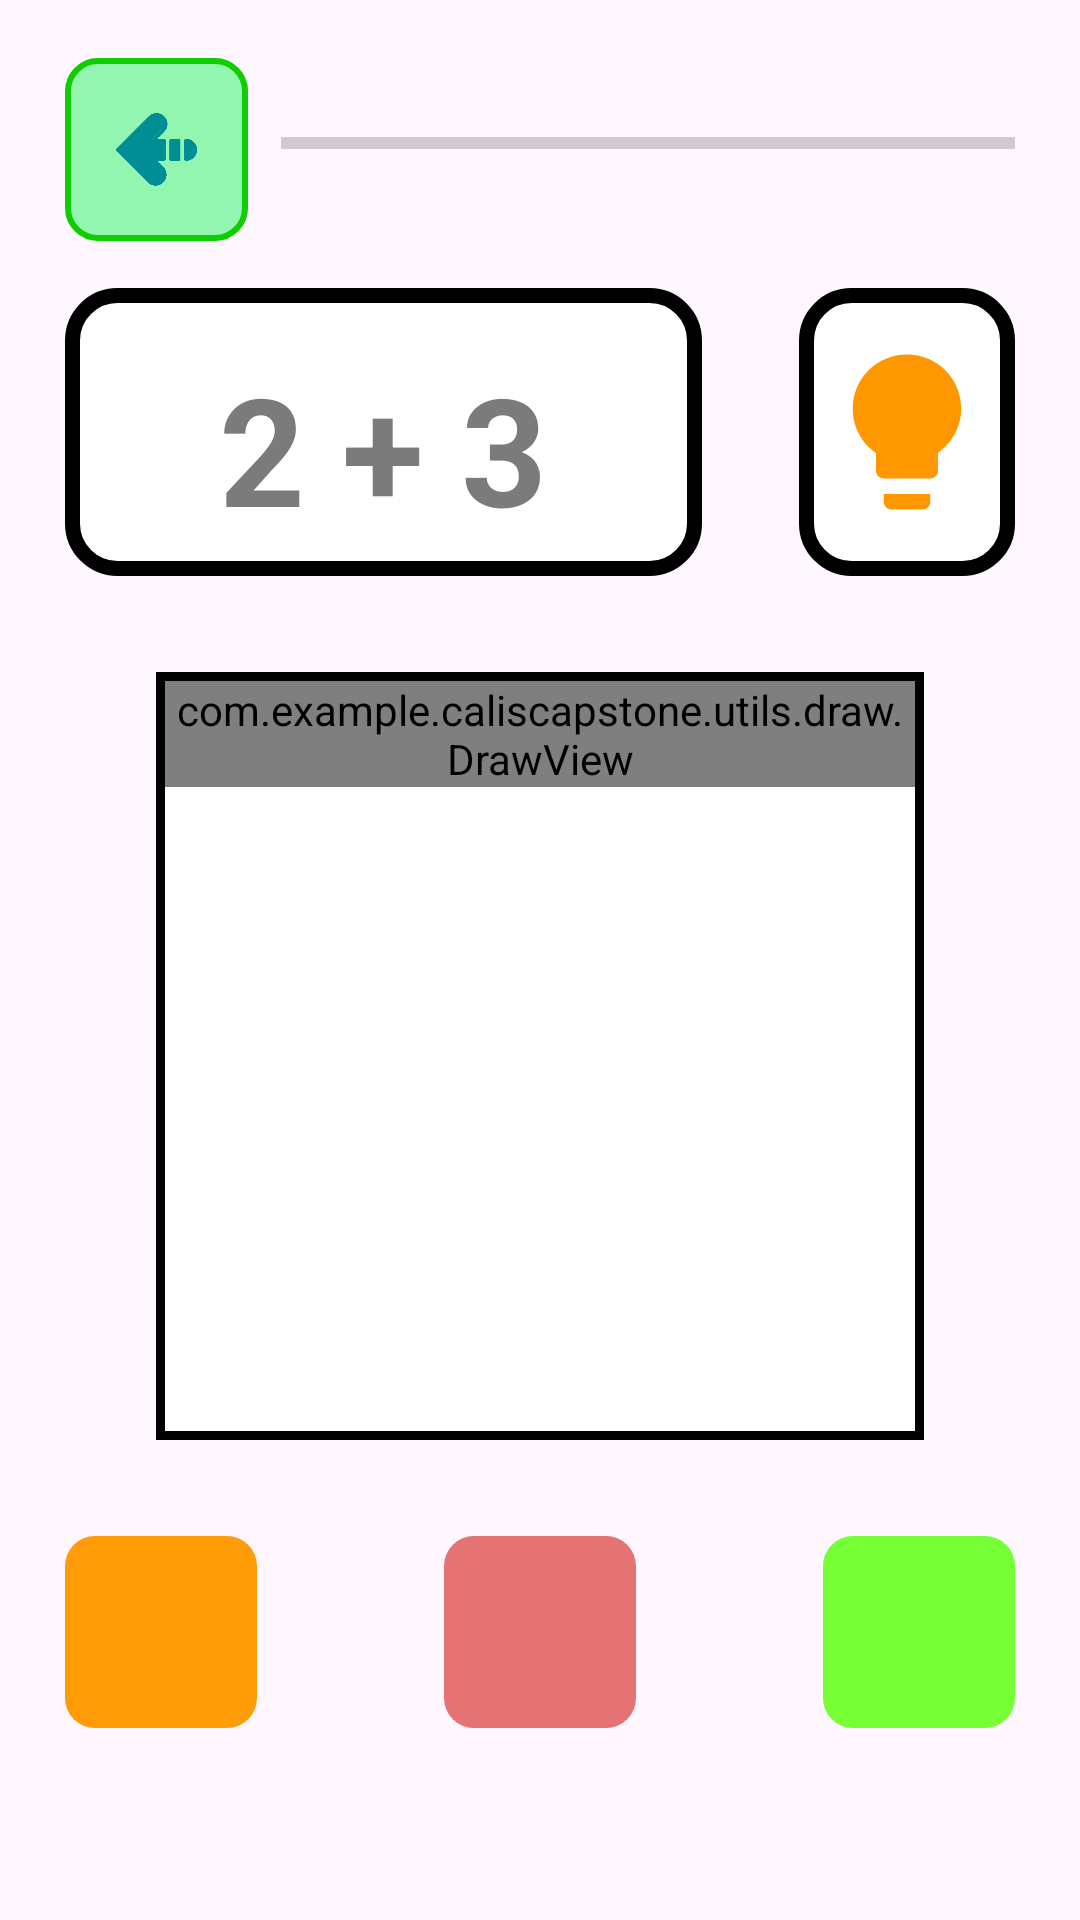

Screen size 1080px×1920px. Icon name, then its center in pixels as [x,y]:
lightbulb: [907,432]
Menu Backward: [156,149]
